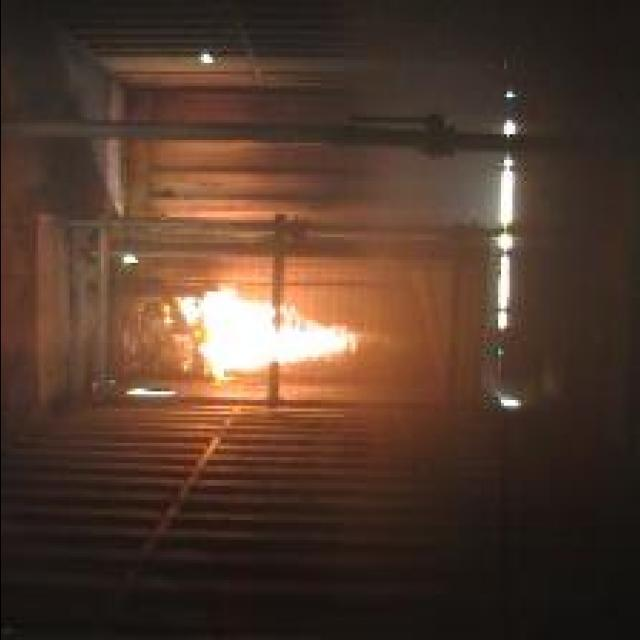Fire: (172, 284, 364, 382)
